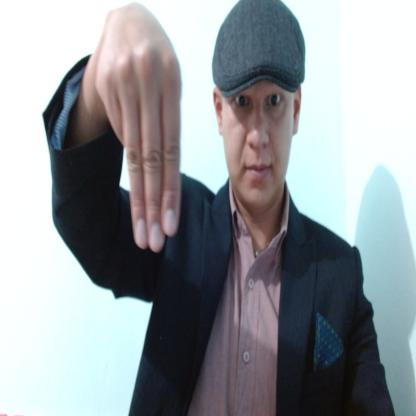M: (96, 5, 184, 251)
